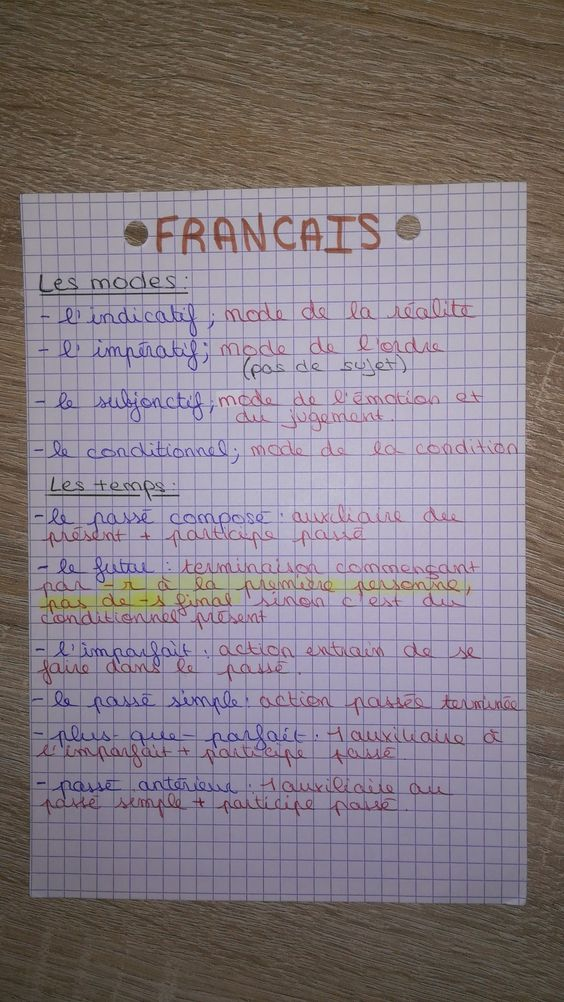page: (26, 199, 526, 900)
